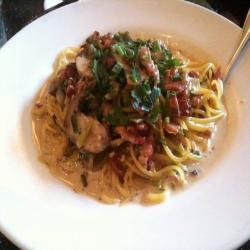carbonara: (29, 28, 230, 217)
